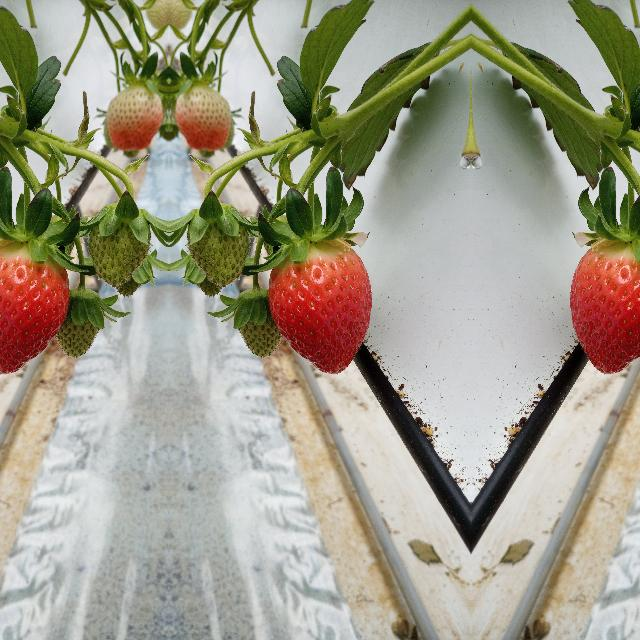Health_100: (267, 239, 373, 375), (568, 239, 640, 375), (0, 239, 69, 375)
Health_25: (186, 198, 248, 290), (89, 198, 150, 290), (56, 292, 110, 360), (227, 292, 280, 360)
Health_50: (176, 76, 237, 160), (100, 76, 160, 160)
